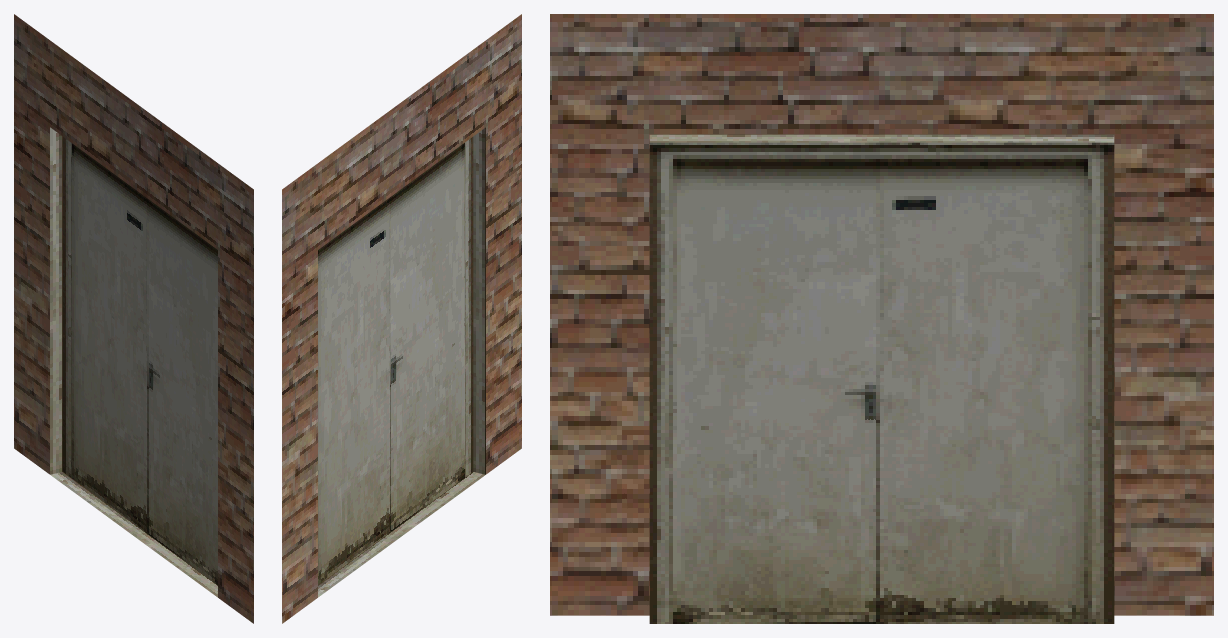
The model's file is brick_wall_old_door_indent.glb.
3 views of the same model, side by side, from view 1: azimuth 30°, elevation 25°; view 2: azimuth 150°, elevation 25°; view 3: azimuth 270°, elevation 25° (orthographic). The views are drawn at different scales.
Visible parts, largest first — view 1: brick_wall_old_door_indent; view 2: brick_wall_old_door_indent; view 3: brick_wall_old_door_indent.
Boxes of the visible parts, x1,y1,x2,y2 form: brick_wall_old_door_indent: (14, 14, 253, 623); brick_wall_old_door_indent: (282, 14, 521, 623); brick_wall_old_door_indent: (550, 14, 1213, 623).
Bounding box in the file's own units: 0.0907 × 3 × 3.
Materials: 1 (1 with a texture image).
